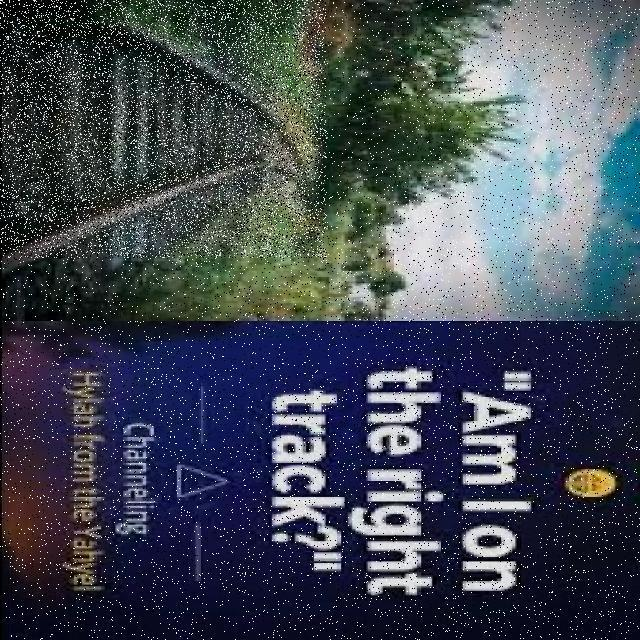rail: (5, 0, 314, 293)
